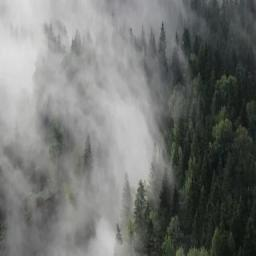Heavy smoke: (1, 1, 134, 255)
Low smoke: (147, 0, 211, 76)
